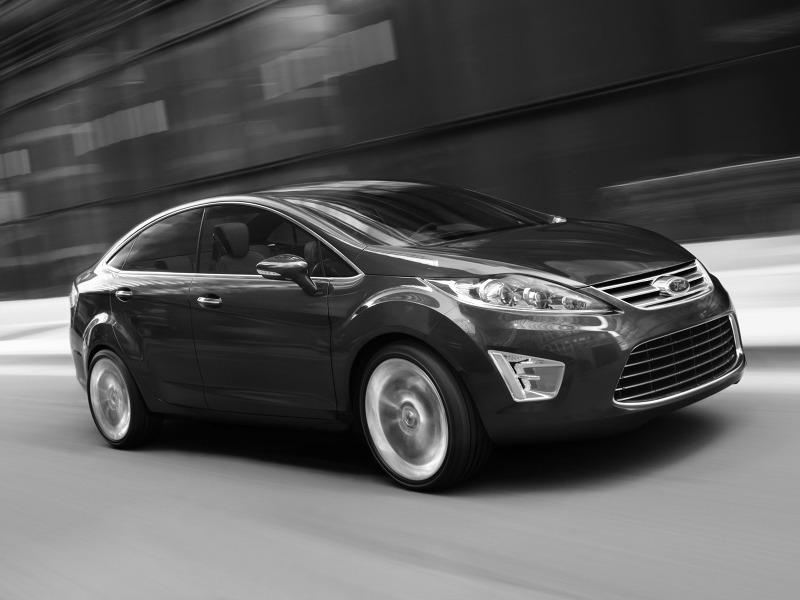car: (69, 178, 747, 495)
